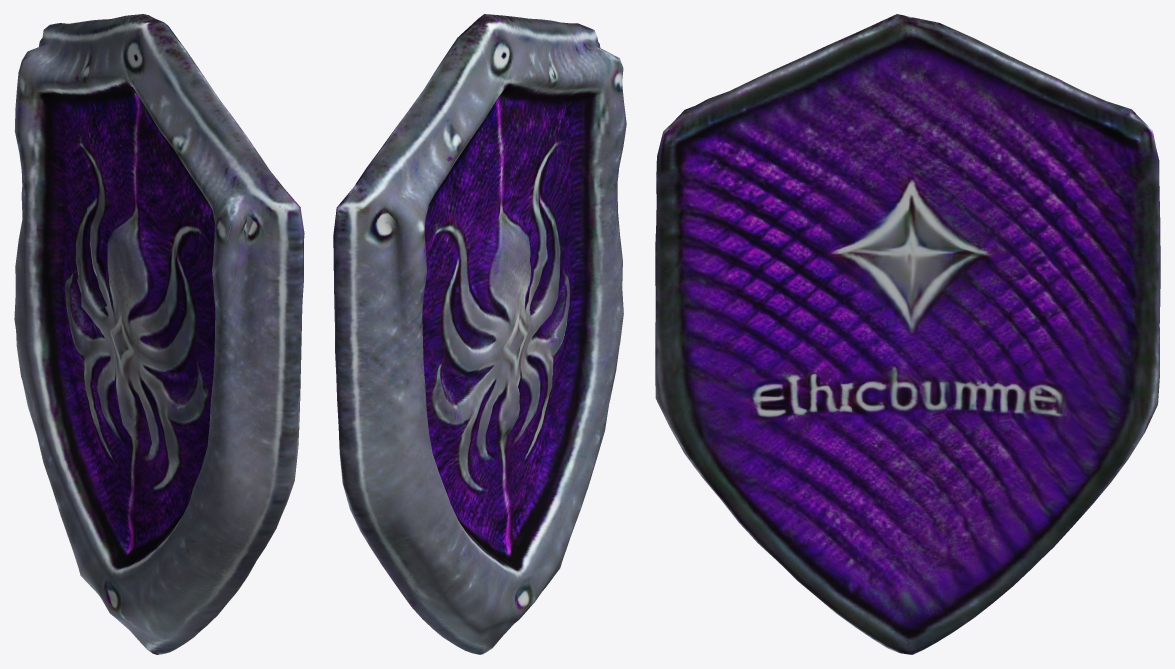
The model's file is e0c63b02b68d_40a2873a1882_purple_octupus_shie.glb.
3 views of the same model, side by side, from view 1: azimuth 30°, elevation 25°; view 2: azimuth 150°, elevation 25°; view 3: azimuth 270°, elevation 25° (orthographic).
Visible parts, largest first — view 1: mesh; view 2: mesh; view 3: mesh.
Boxes of the visible parts, x1,y1,x2,y2 form: mesh: [14, 14, 304, 654]; mesh: [333, 14, 626, 654]; mesh: [655, 14, 1160, 654].
Size of the model in its own units: 0.1189 by 0.9924 by 0.7148.
1 material, 1 textured.
